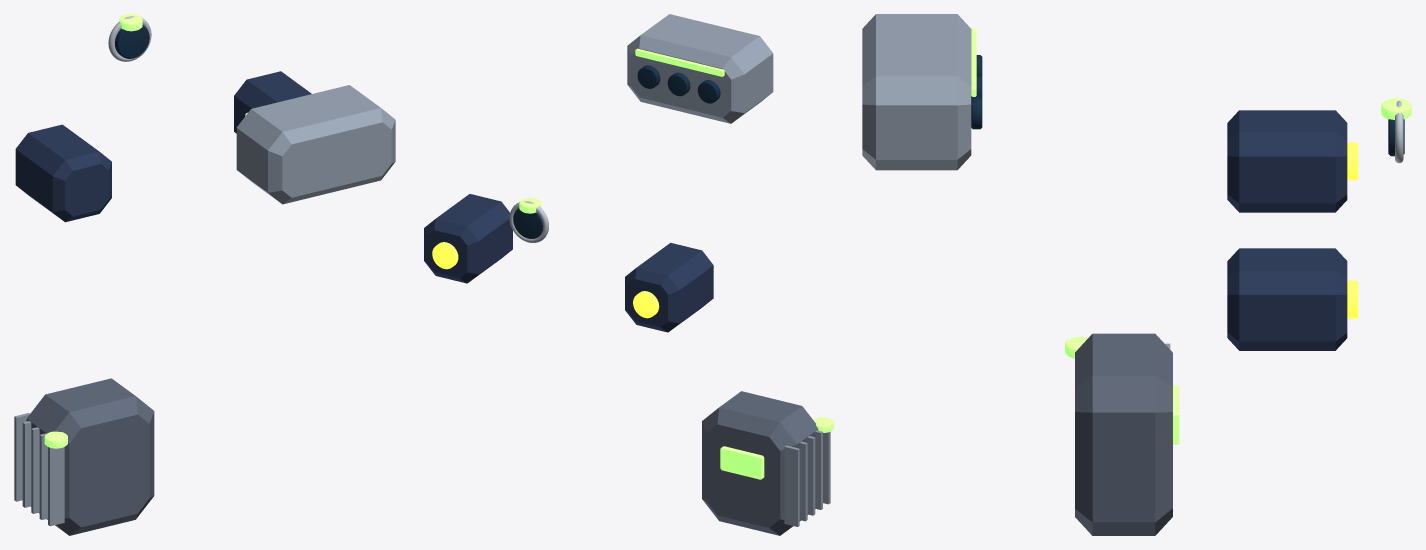
Rendered from tower_detector_analysis_s7.glb.
The picture shows the model from 3 angles, left to right: view 1: azimuth 30°, elevation 25°; view 2: azimuth 150°, elevation 25°; view 3: azimuth 270°, elevation 25°; orthographic projection. The views are drawn at different scales.
Parts seen in each view (by area): view 1: detector_cluster, detector_recorder, detector_mark_projector_b, detector_recorder_fins, detector_mark_projector, detector_analysis_lens, detector_analysis_lens_ring; view 2: detector_recorder, detector_cluster, detector_mark_projector_b, detector_mark_projector, detector_recorder_fins, detector_recorder_face, detector_cluster_bar, detector_analysis_lens, detector_mark_lens, detector_mark_lens_b, detector_analysis_lens_ring; view 3: detector_recorder, detector_cluster, detector_mark_projector_b, detector_mark_projector.
Part boxes in pixels (<box>): detector_cluster: <box>236,85,395,204</box>; detector_recorder: <box>26,378,154,535</box>; detector_mark_projector_b: <box>15,124,111,222</box>; detector_recorder_fins: <box>14,413,64,526</box>; detector_mark_projector: <box>234,71,311,133</box>; detector_analysis_lens: <box>115,25,149,58</box>; detector_analysis_lens_ring: <box>108,16,151,61</box>; detector_recorder: <box>702,391,818,535</box>; detector_cluster: <box>627,14,773,123</box>; detector_mark_projector_b: <box>625,242,713,332</box>; detector_mark_projector: <box>424,194,512,283</box>; detector_recorder_fins: <box>784,430,830,526</box>; detector_recorder_face: <box>720,446,764,479</box>; detector_cluster_bar: <box>635,48,724,76</box>; detector_analysis_lens: <box>513,208,543,238</box>; detector_mark_lens: <box>432,242,458,269</box>; detector_mark_lens_b: <box>633,291,659,318</box>; detector_analysis_lens_ring: <box>509,201,548,242</box>; detector_recorder: <box>1075,333,1172,535</box>; detector_cluster: <box>862,14,971,170</box>; detector_mark_projector_b: <box>1227,110,1347,212</box>; detector_mark_projector: <box>1227,248,1347,350</box>.
Size of the model in its own units: 0.9496 by 1.14 by 1.01.
